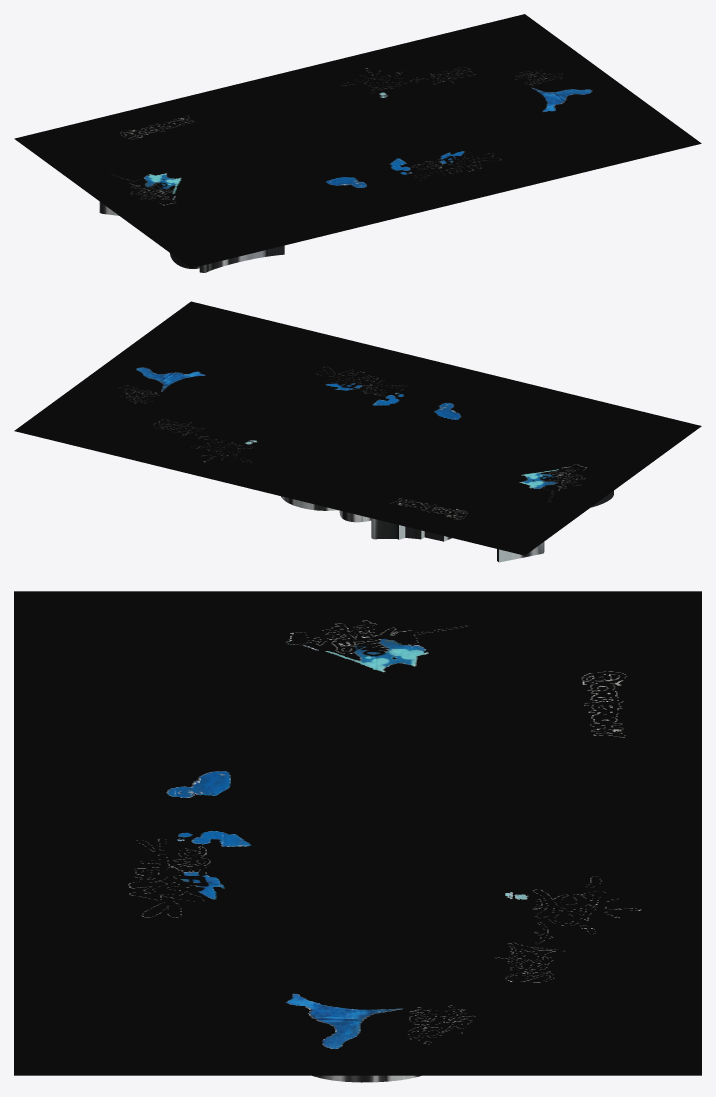
3 renders of one model, top to bottom at view 1: azimuth 30°, elevation 25°; view 2: azimuth 150°, elevation 25°; view 3: azimuth 270°, elevation 25°, orthographic. The views are drawn at different scales.
Visible parts, largest first — view 1: Plane, cuerpo_path826; view 2: Plane, cuerpo_path826; view 3: Plane.
Boxes of the visible parts, x1,y1,x2,y2 form: Plane: (14, 14, 701, 268); cuerpo_path826: (99, 202, 284, 272); Plane: (14, 301, 701, 555); cuerpo_path826: (281, 491, 613, 562); Plane: (14, 591, 701, 1075).
Size of the model in its own units: 7.27 by 0.6006 by 4.37.
Materials: 4 (3 with a texture image).
